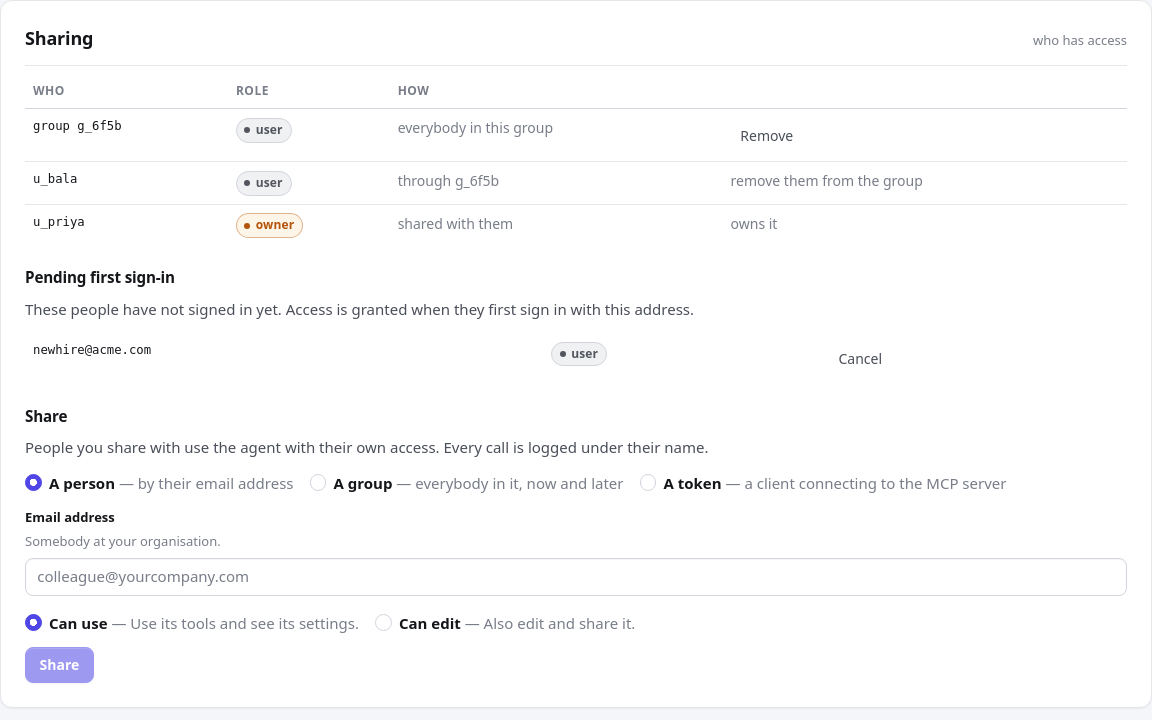
Scenario: sharing › **reports which of the two things happened**
In the field labelled "Email address Somebody at your organisation.": (576, 577) 25,558 -> 1127,596, type "newhire@acme.com"
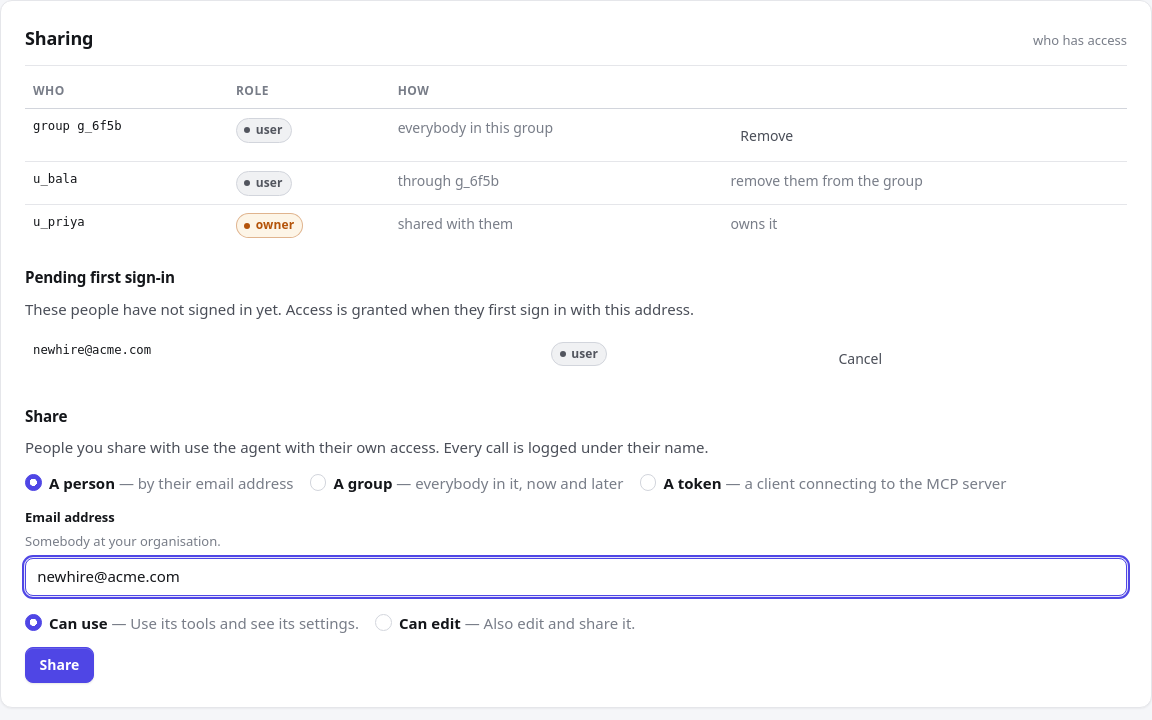
Click the button "Share": click(59, 665) 25,647 -> 94,683
(page scrolled)
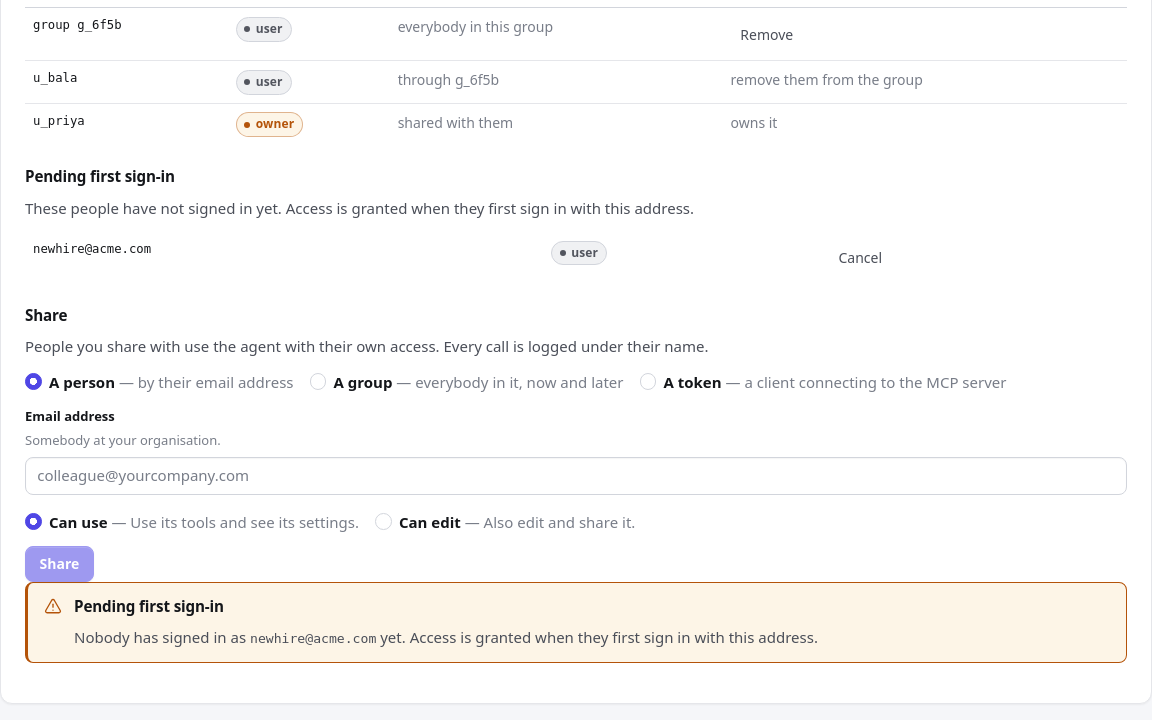
Check: the text "Nobody has signed in as" is shown, box 74,628 -> 250,648
